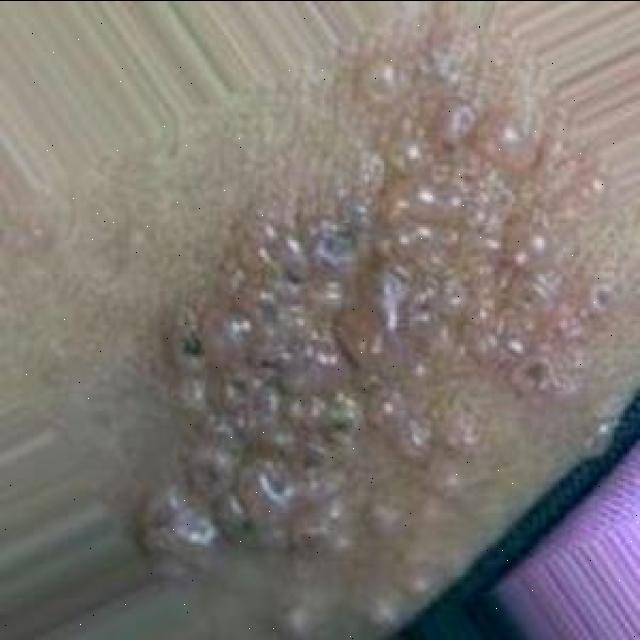Shingles: (141, 60, 611, 590)
